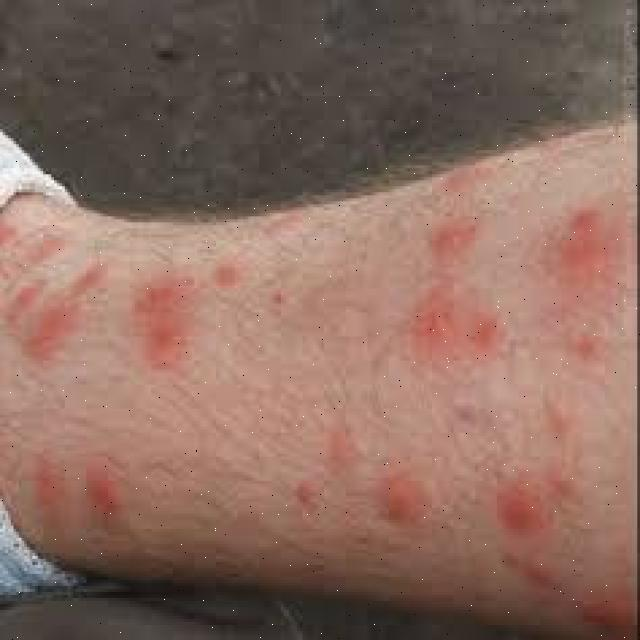kan emici bocekler: (9, 223, 121, 383), (312, 421, 446, 541), (26, 439, 162, 536), (471, 481, 605, 547), (547, 194, 619, 304), (121, 278, 203, 370), (414, 206, 492, 268), (400, 289, 458, 360)
